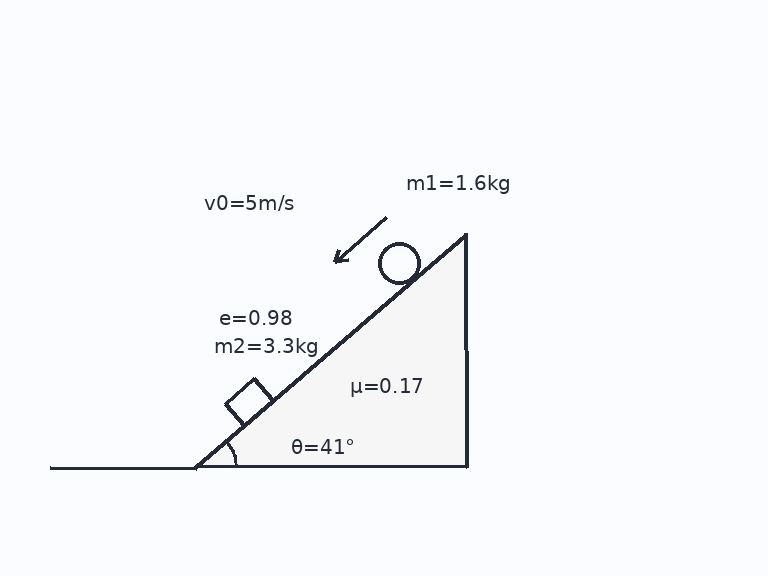ball: (376, 240, 422, 286)
block: (222, 376, 275, 428)
ramp: (194, 231, 467, 469)
